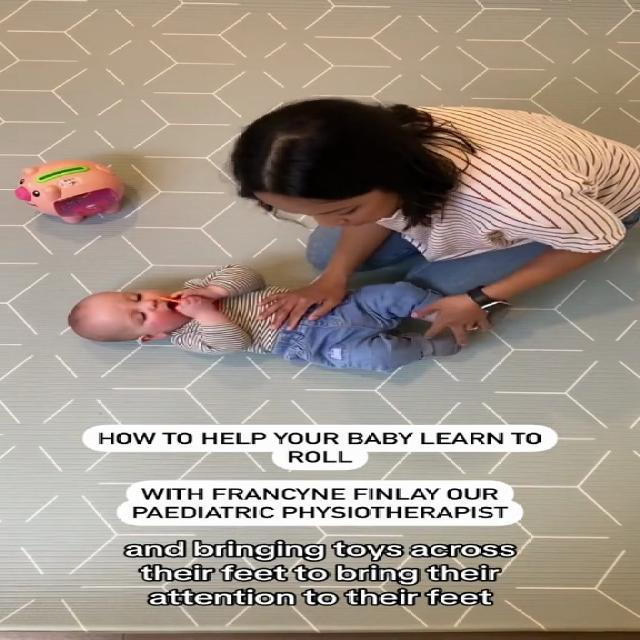baby: (63, 265, 502, 378)
